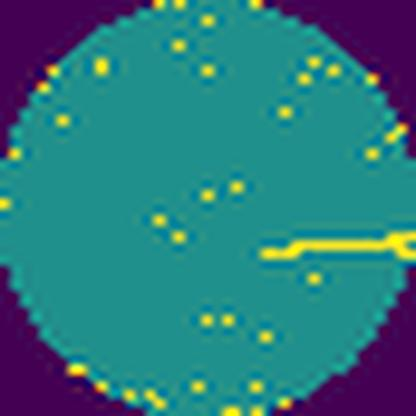Scratch: (251, 224, 416, 264)
